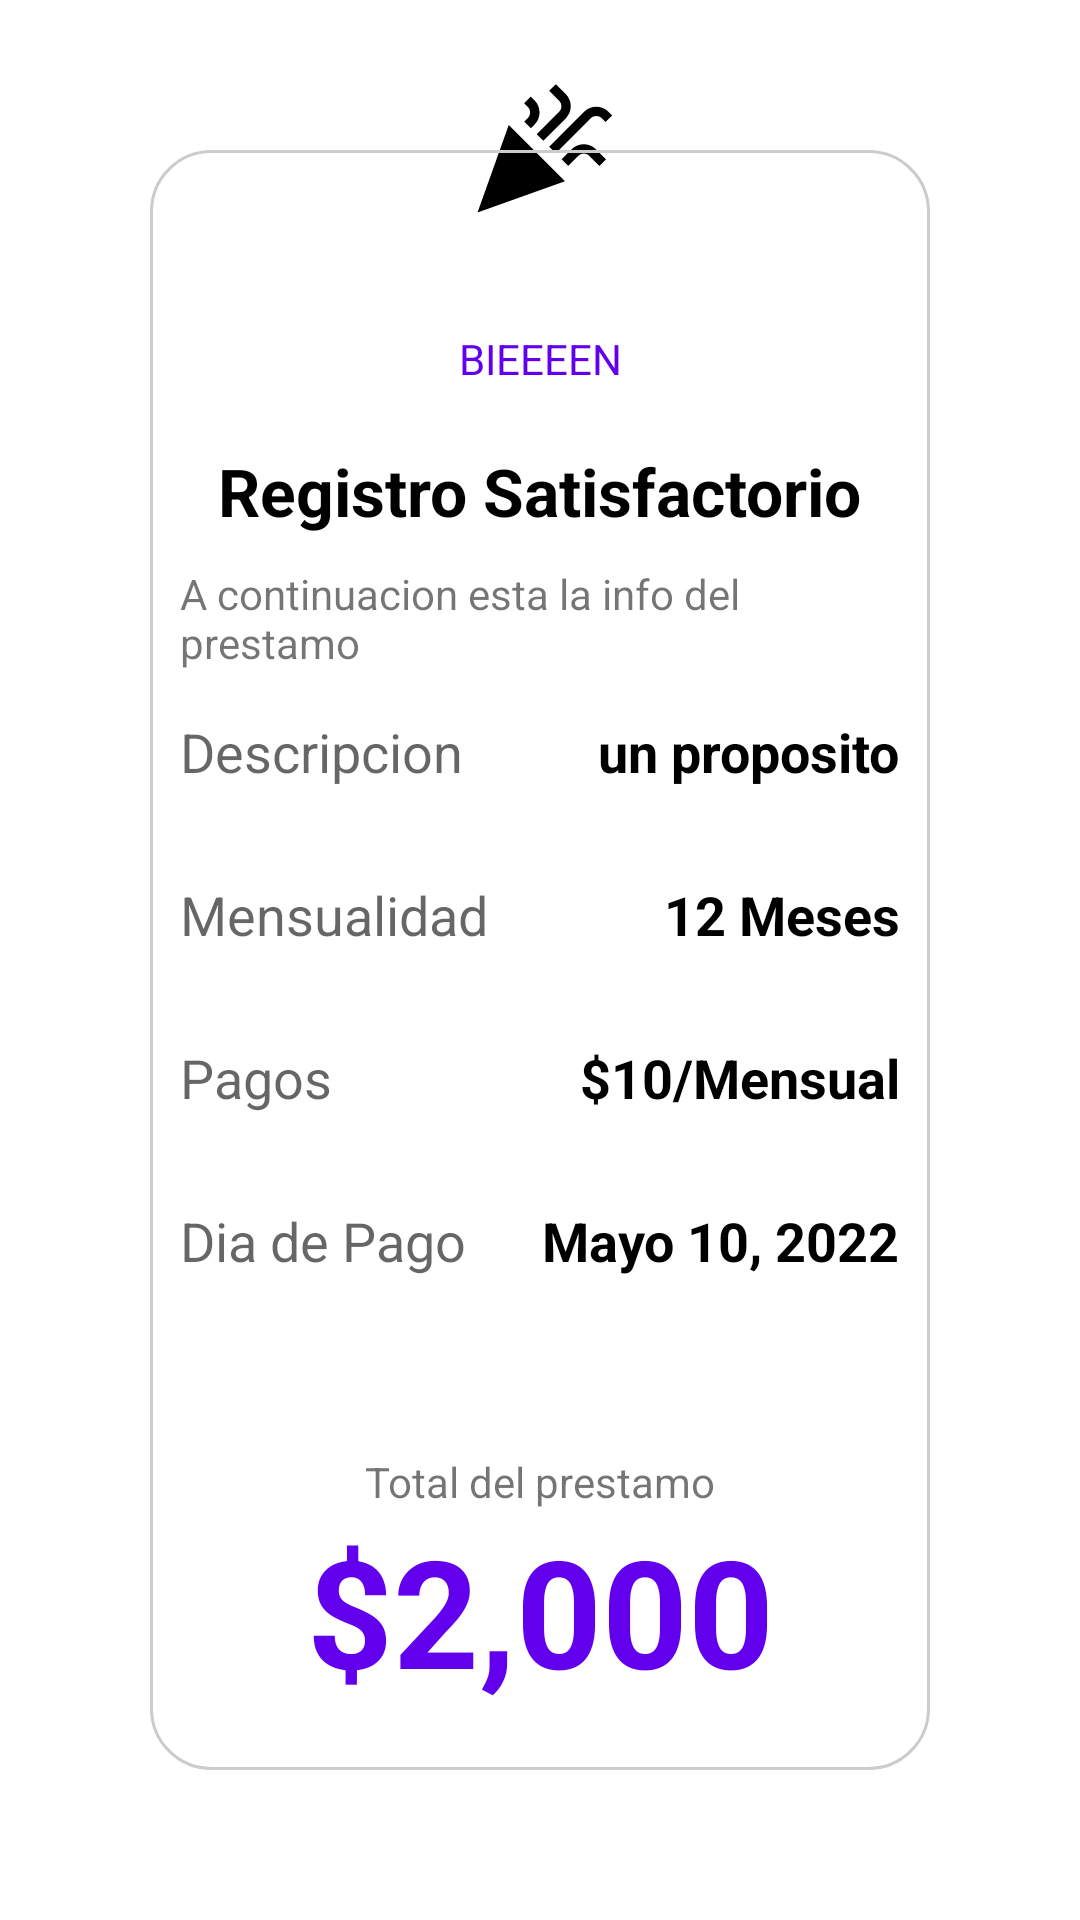

Icons on this 1080 x 1920 Android screen, each with its box as box=[x1, y1, x2, y2]:
celebration: box=[465, 84, 615, 213]
